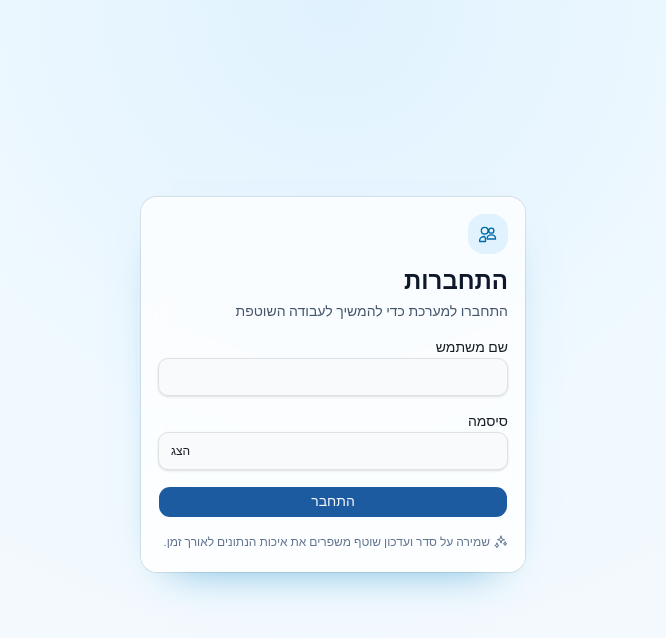
Test: Login page › shows error on bad credentials
The image size is (666, 638).
Type "alice" into the field labelled "שם משתמש".
click(333, 376); type("alice")  # box x1=158 y1=358 x2=508 y2=396
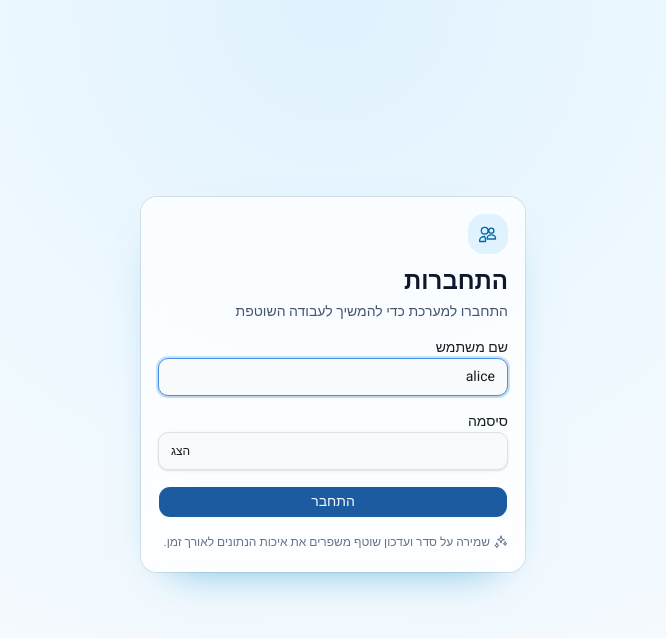
Type "wrong-pass" into the password field labelled "סיסמה".
click(333, 450); type("wrong-pass")  # box x1=158 y1=432 x2=508 y2=470
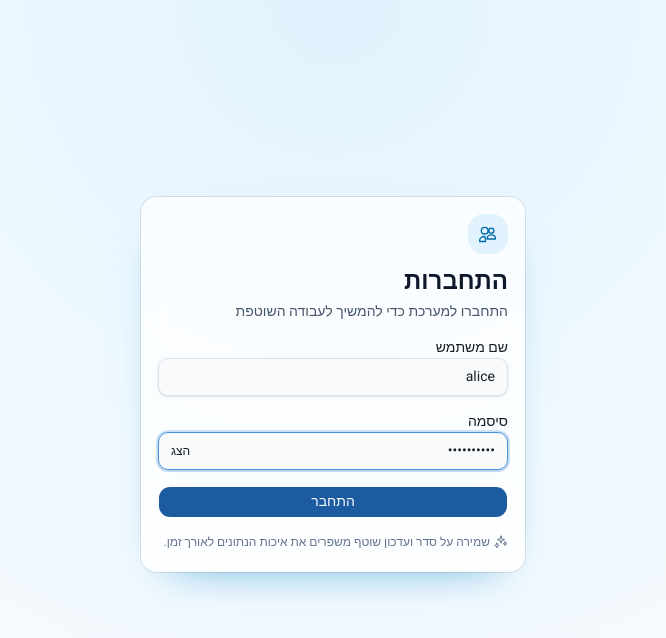
Click the button "התחבר".
click(333, 502)  # box x1=158 y1=486 x2=508 y2=518
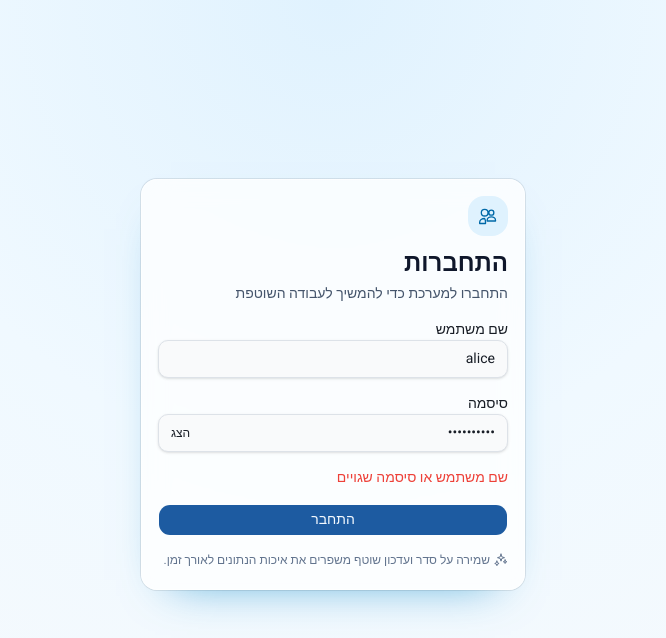
Result: the message reads "שם משתמש או סיסמה שגויים" at x1=337 y1=466 x2=508 y2=488
